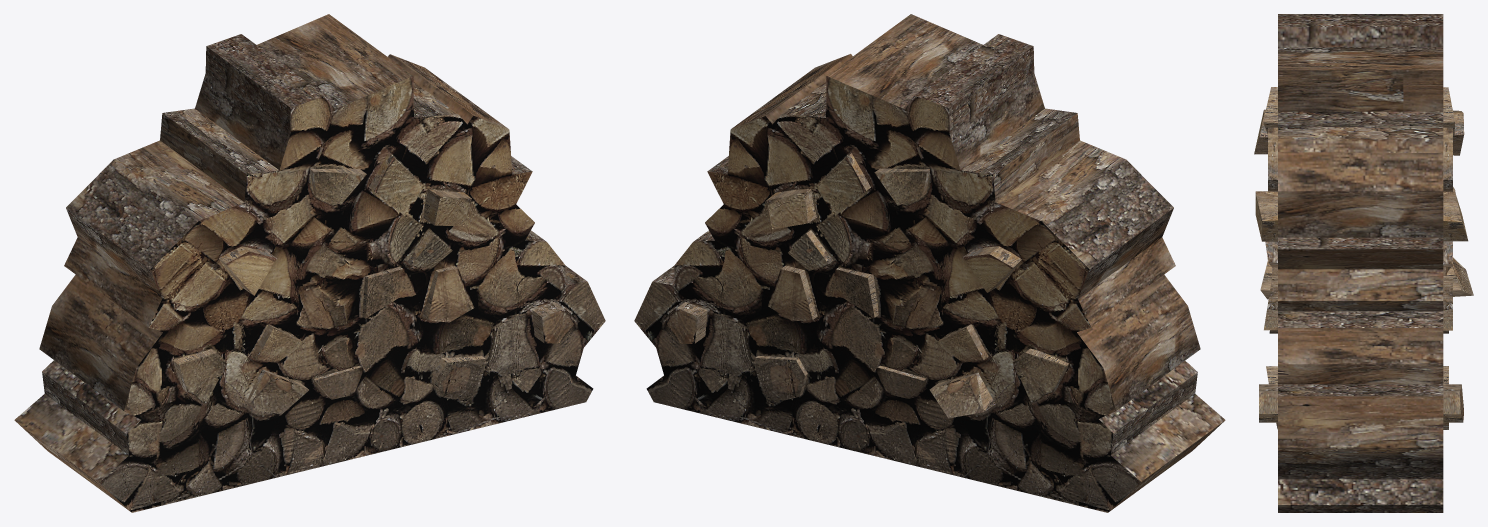
The model's file is Lumber1.fbx.
3 views of the same model, side by side, from view 1: azimuth 30°, elevation 25°; view 2: azimuth 150°, elevation 25°; view 3: azimuth 270°, elevation 25° (orthographic). The views are drawn at different scales.
Parts seen in each view (by area): view 1: polySurface441; view 2: polySurface441; view 3: polySurface441.
Part boxes in pixels (x1,y1,x2,y2): polySurface441: (14, 14, 605, 512); polySurface441: (634, 14, 1225, 512); polySurface441: (1254, 14, 1473, 512).
Size of the model in its own units: 7.25 by 5.06 by 2.79.
